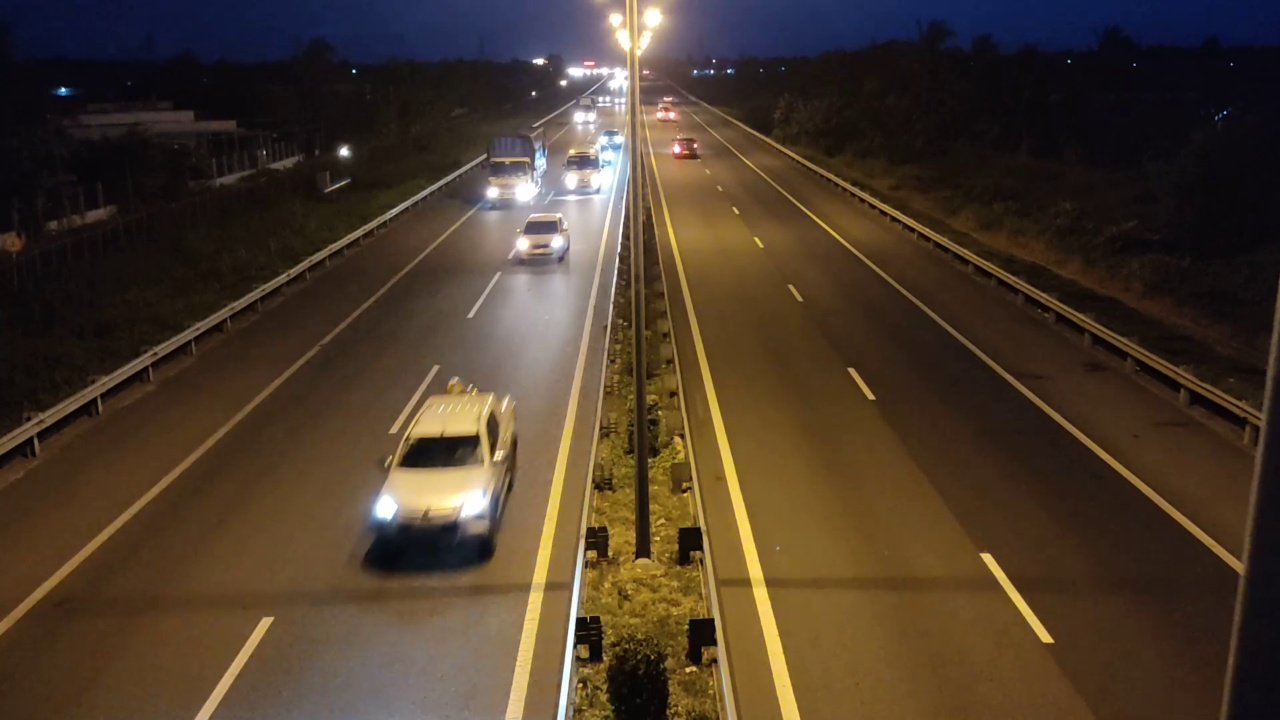car: (365, 385, 519, 569), (509, 213, 571, 265), (561, 147, 603, 193), (669, 135, 701, 160)
truck: (485, 132, 547, 204)
